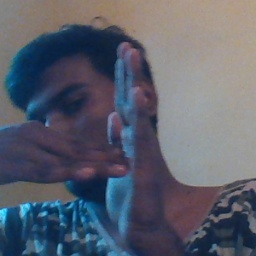Z: (28, 35, 166, 233)
